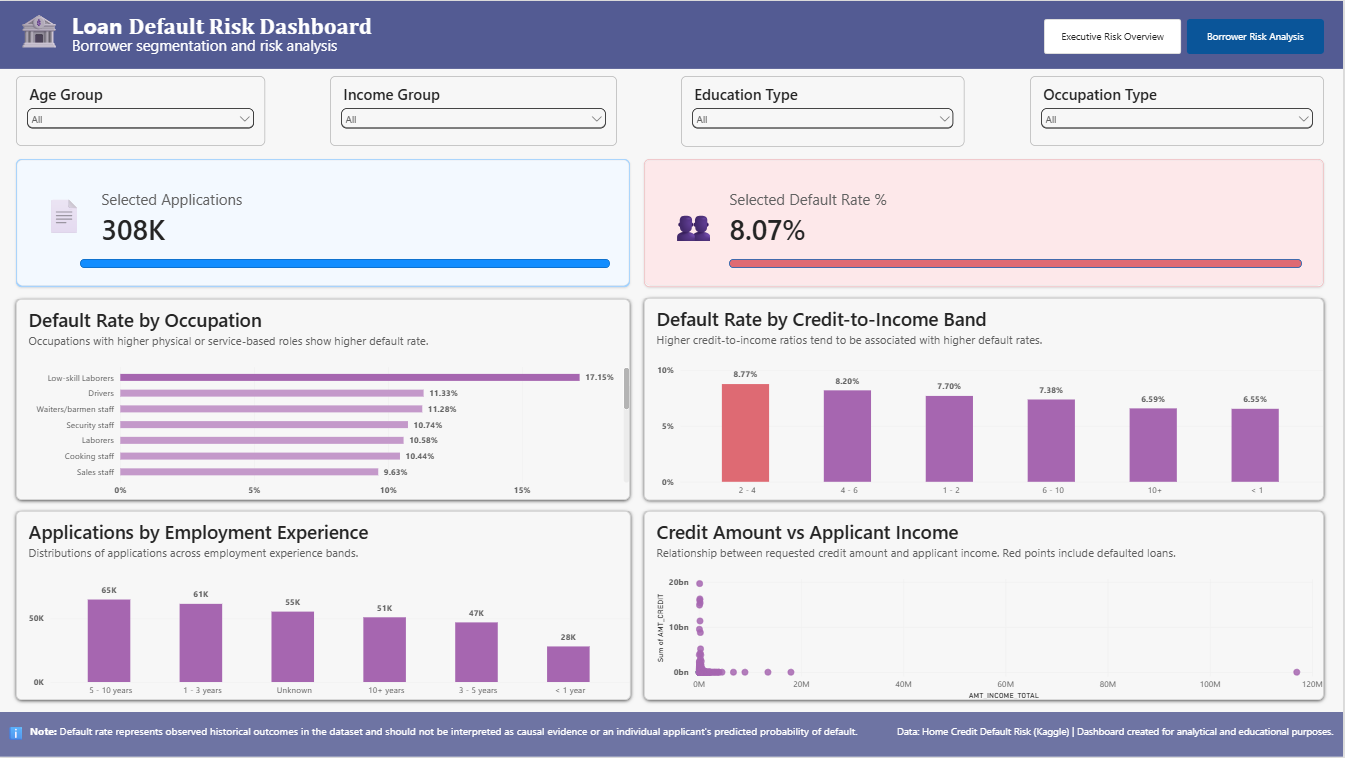

The page's visual inventory and layout, read from the dashboard file:
{"tool":"powerbi","page":{"name":"Borrower Risk Analysis","canvas":[1920,1080],"ordinal":1},"visuals":[{"type":"slicer","fields":{"Values":["applications_clean.OCCUPATION_TYPE"]},"box":[1472.9,107.1,420,100],"z":0},{"type":"slicer","fields":{"Values":["applications_clean.NAME_EDUCATION_TYPE"]},"box":[974.9,107.1,405.5,100.7],"z":1000},{"type":"slicer","fields":{"Values":["applications_clean.INCOME_GROUP"]},"box":[472.5,107.1,410,100],"z":2000},{"type":"slicer","fields":{"Values":["applications_clean.AGE_GROUP"]},"box":[24.3,107.1,355.7,100],"z":3000},{"type":"barChart","title":"Default Rate by Occupation","fields":{"Category":["applications_clean.OCCUPATION_TYPE"],"Y":["applications_clean.Default Rate %"]},"box":[24.3,425.7,877.1,287.1],"z":4000},{"type":"columnChart","title":"Default Rate by Credit-to-Income Band","fields":{"Category":["applications_clean.CREDIT_INCOME_BAND"],"Y":["applications_clean.Default Rate %"]},"box":[921.4,424.3,971.4,288.6],"z":5000},{"type":"columnChart","title":"Applications by Employment Experience","fields":{"Category":["applications_clean.EMPLOYMENT_BAND"],"Y":["applications_clean.Total Applications"]},"box":[24.3,728.6,877.8,270.3],"z":6000},{"type":"scatterChart","title":"Credit Amount vs Applicant Income","fields":{"X":["applications_clean.AMT_INCOME_TOTAL"],"Y":["Sum(applications_clean.AMT_CREDIT)"]},"box":[921.4,728.6,971.4,270],"z":7000},{"type":"cardVisual","fields":{"Data":["applications_clean.Selected Applications"]},"box":[24.3,225.7,877.1,182.9],"z":8000},{"type":"cardVisual","fields":{"Data":["applications_clean.Selected Default Rate %"]},"box":[921.4,225.7,971.4,182.9],"z":9000},{"type":"shape","title":"Lan","box":[0,0,1920.6,97.1],"z":10000},{"type":"textbox","box":[103.7,12,444.2,53.2],"z":11000},{"type":"textbox","box":[103.7,49.2,428.3,53.2],"z":12000},{"type":"textbox","box":[23.9,10.6,73.2,65.2],"z":13000},{"type":"textbox","box":[60,272.9,73.2,65.2],"z":14000},{"type":"textbox","box":[960,284.3,73.2,65.2],"z":15000},{"type":"shape","box":[115.7,368.6,757.1,12.9],"z":16000},{"type":"shape","box":[1042.9,368.6,818.6,12.9],"z":17000},{"type":"shape","box":[0,1016.2,1920.6,63.8],"z":18000},{"type":"textbox","box":[43.9,1033.4,1186.4,29.3],"z":19000},{"type":"textbox","box":[1283.5,1033.4,626.5,29.3],"z":20000},{"type":"textbox","box":[12,1033,23.9,25.3],"z":21000},{"type":"pageNavigator","box":[1492.9,25.7,400,50],"z":22000}]}

Visuals, with their boxes in screenshot pixels (x1, y1, x2, y2), scaled from the page's 1920x1080 canvas onto the 1345x758 screenshot:
slicer - applications_clean.OCCUPATION_TYPE: bbox=(1032, 75, 1326, 145)
slicer - applications_clean.NAME_EDUCATION_TYPE: bbox=(683, 75, 967, 146)
slicer - applications_clean.INCOME_GROUP: bbox=(331, 75, 618, 145)
slicer - applications_clean.AGE_GROUP: bbox=(17, 75, 266, 145)
"Default Rate by Occupation" barChart: bbox=(17, 299, 631, 500)
"Default Rate by Credit-to-Income Band" columnChart: bbox=(645, 298, 1326, 500)
"Applications by Employment Experience" columnChart: bbox=(17, 511, 632, 701)
"Credit Amount vs Applicant Income" scatterChart: bbox=(645, 511, 1326, 701)
cardVisual - applications_clean.Selected Applications: bbox=(17, 158, 631, 287)
cardVisual - applications_clean.Selected Default Rate %: bbox=(645, 158, 1326, 287)
"Lan" shape: bbox=(0, 0, 1344, 68)
textbox: bbox=(73, 8, 384, 46)
textbox: bbox=(73, 35, 373, 72)
textbox: bbox=(17, 7, 68, 53)
textbox: bbox=(42, 192, 93, 237)
textbox: bbox=(672, 200, 724, 245)
shape: bbox=(81, 259, 611, 268)
shape: bbox=(731, 259, 1304, 268)
shape: bbox=(0, 713, 1344, 757)
textbox: bbox=(31, 725, 862, 746)
textbox: bbox=(899, 725, 1338, 746)
textbox: bbox=(8, 725, 25, 743)
pageNavigator: bbox=(1046, 18, 1326, 53)
